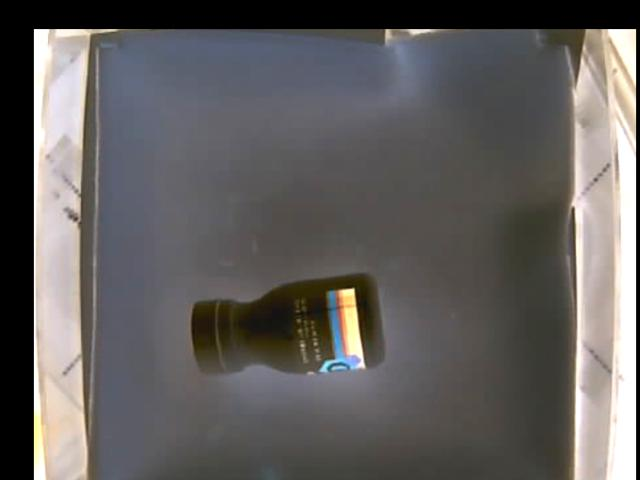Bottle: (186, 272, 387, 377)
